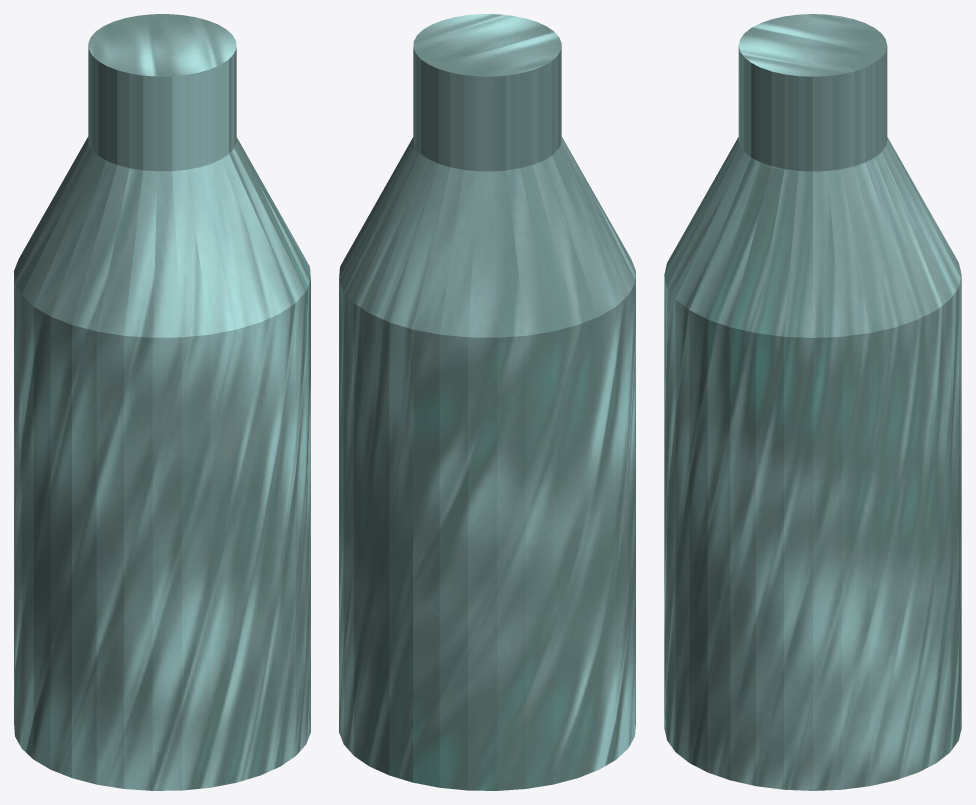
File: bottle.gltf
3 views of the same model, side by side, from view 1: azimuth 30°, elevation 25°; view 2: azimuth 150°, elevation 25°; view 3: azimuth 270°, elevation 25° (orthographic).
Parts seen in each view (by area): view 1: 실린더; view 2: 실린더; view 3: 실린더.
Boxes of the visible parts, x1,y1,x2,y2 form: 실린더: (14,14,310,790); 실린더: (339,14,635,790); 실린더: (664,14,961,790).
Size of the model in its own units: 4.04 by 10.23 by 4.04.
1 material, 1 textured.
